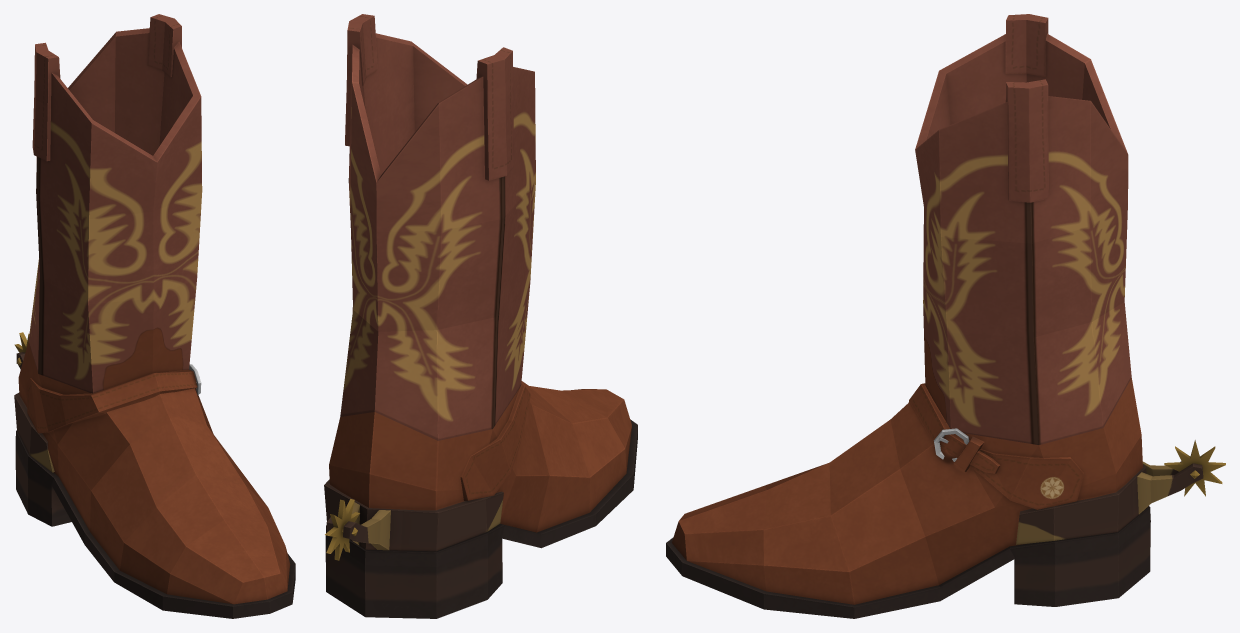
The model's file is cowboy_boot.glb.
The picture shows the model from 3 angles, left to right: view 1: azimuth 30°, elevation 25°; view 2: azimuth 150°, elevation 25°; view 3: azimuth 270°, elevation 25°; orthographic projection. The views are drawn at different scales.
Parts seen in each view (by area): view 1: CowboyBoots_Mesh; view 2: CowboyBoots_Mesh; view 3: CowboyBoots_Mesh.
Part boxes in pixels (left/top/right/bottom): CowboyBoots_Mesh: left=14, top=14, right=295, bottom=618; CowboyBoots_Mesh: left=324, top=14, right=637, bottom=618; CowboyBoots_Mesh: left=666, top=14, right=1225, bottom=618.
Size of the model in its own units: 0.9083 by 2.58 by 2.51.
Materials: 1 (1 with a texture image).
